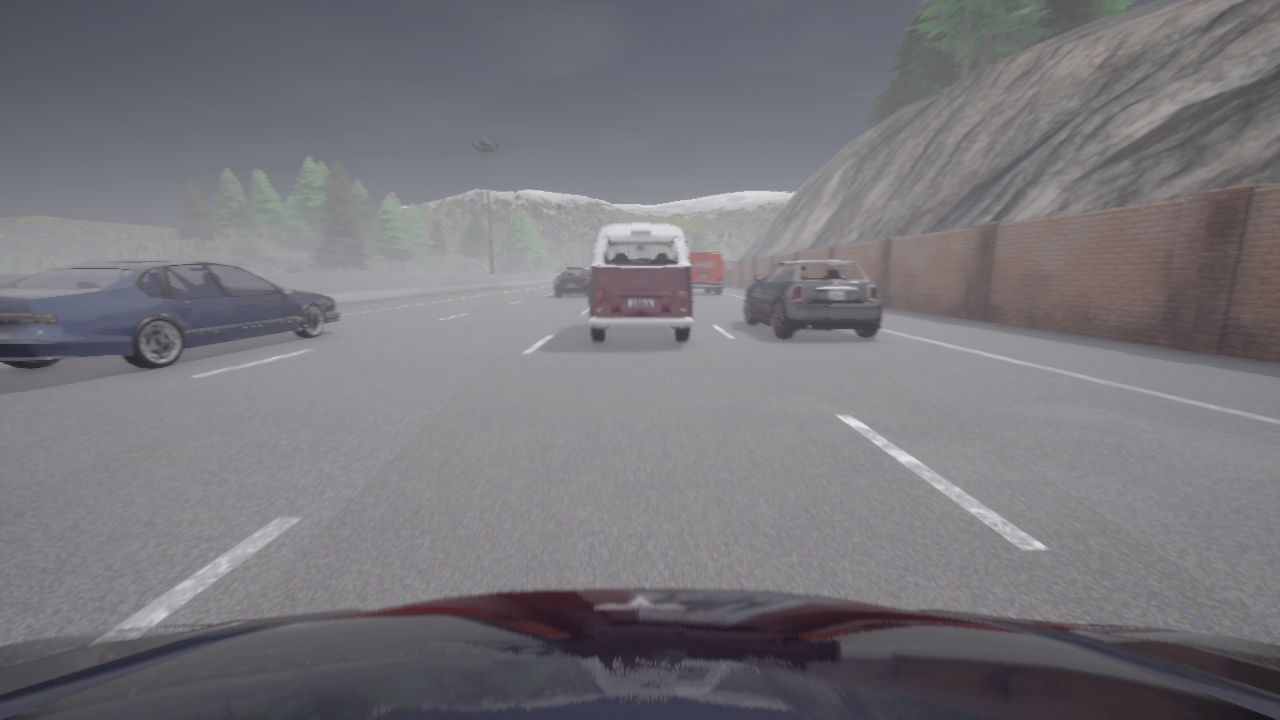cyclist: (0, 588, 1279, 719), (0, 260, 341, 368), (588, 223, 693, 341), (745, 260, 882, 337), (688, 252, 725, 293), (554, 267, 590, 295), (585, 267, 590, 273)
